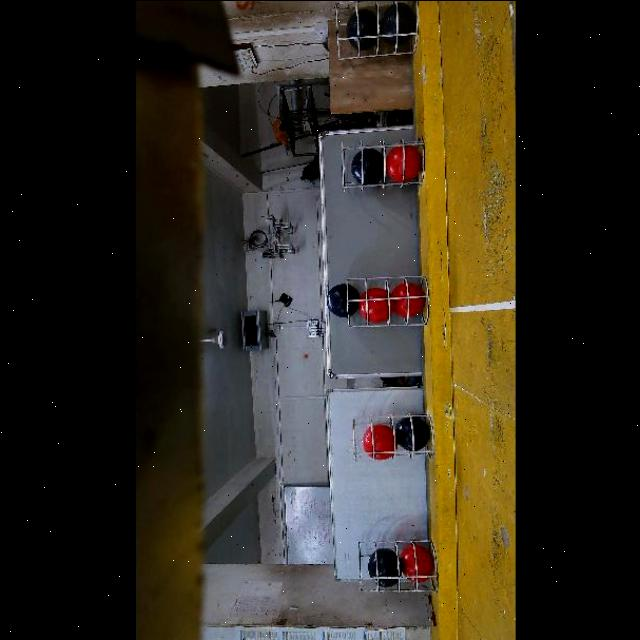P: (379, 1, 416, 45), (345, 8, 378, 50), (367, 548, 398, 589), (350, 148, 383, 185), (395, 417, 429, 451), (325, 284, 359, 317)
R: (399, 544, 435, 583), (386, 145, 421, 182), (362, 423, 394, 460), (391, 282, 424, 317), (357, 286, 388, 322)
S: (336, 1, 416, 64), (336, 134, 426, 188), (350, 410, 438, 464), (350, 274, 434, 326), (356, 538, 436, 590)
